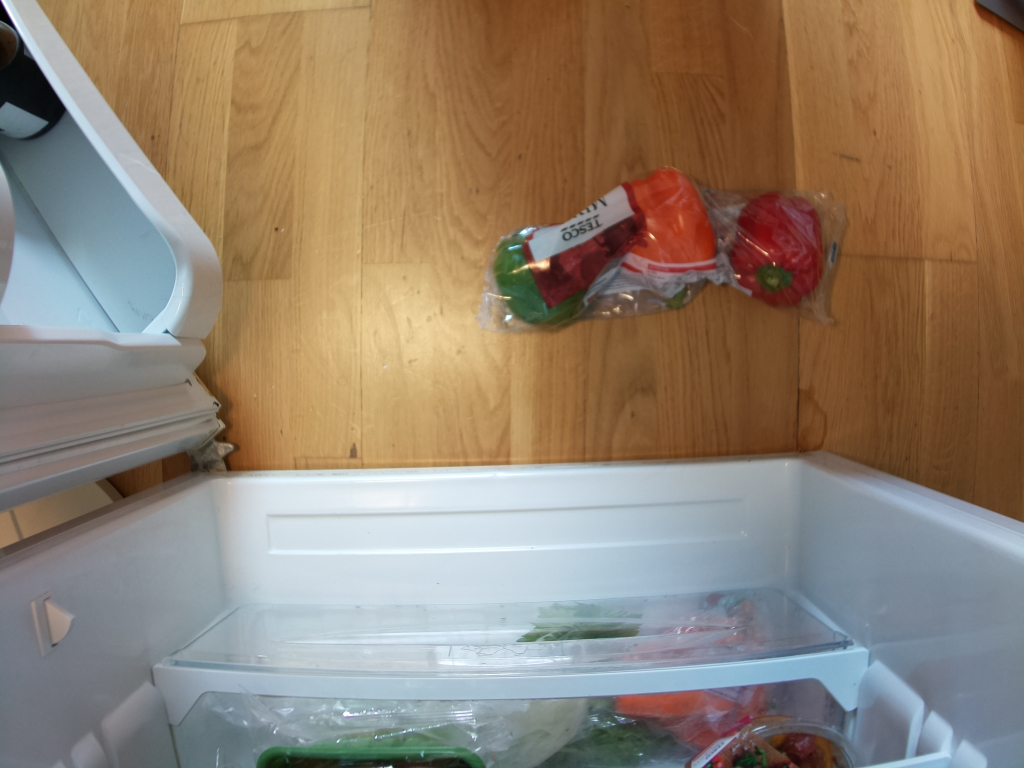pepper: (602, 170, 726, 295), (731, 192, 833, 312), (494, 228, 601, 335)
